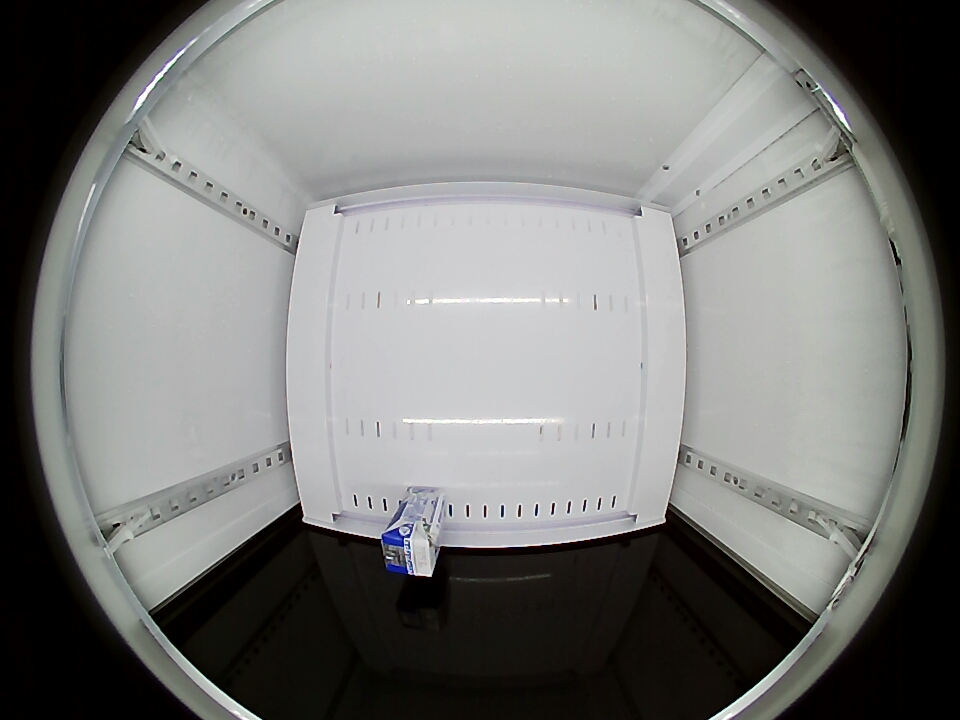anmuxi: (381, 520, 440, 576)
